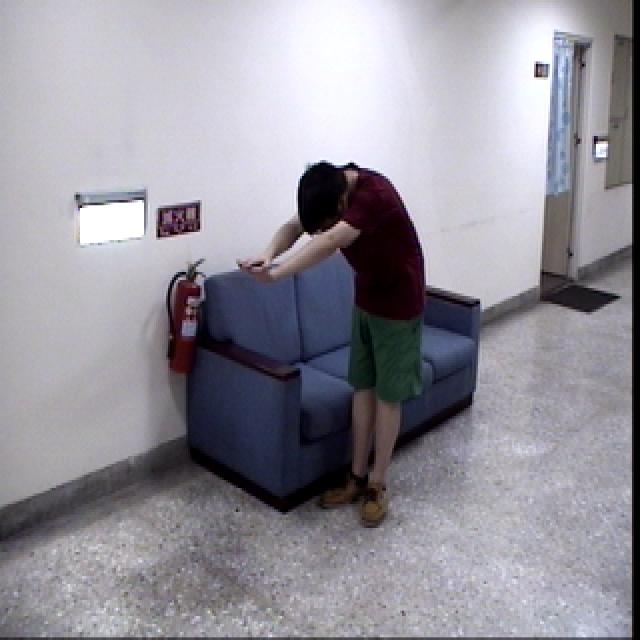bend: (235, 150, 430, 532)
